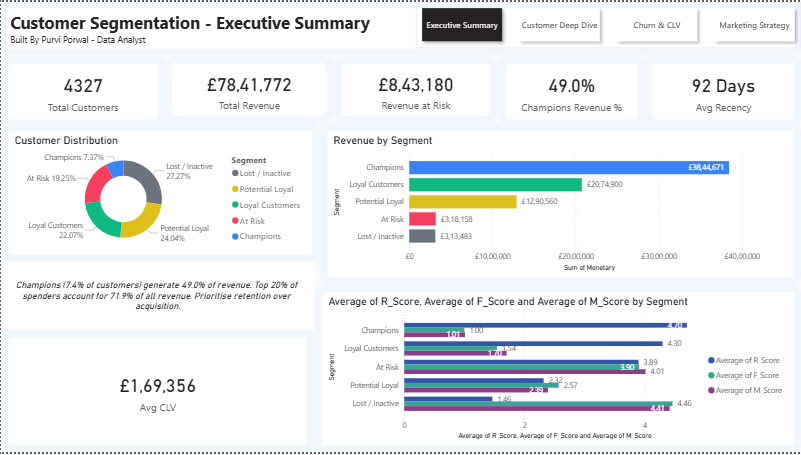

The page's visual inventory and layout, read from the dashboard file:
{"tool":"powerbi","page":{"name":"Executive Summary","canvas":[1280,720],"ordinal":0},"visuals":[{"type":"card","fields":{"Values":["Customer_RFM.Total Revenue"]},"box":[262.1,85.1,270.3,108.4],"z":0},{"type":"card","fields":{"Values":["Customer_RFM.Total Customers"]},"box":[0,85.1,262.1,113.9],"z":1000},{"type":"card","fields":{"Values":["Customer_RFM.Champions Revenue %"]},"box":[795.9,85.1,233.3,113.9],"z":2000},{"type":"donutChart","title":"Customer Distribution","fields":{"Category":["Customer_RFM.Segment"],"Y":["CountNonNull(Customer_RFM.Customer ID)"]},"box":[0,193.2,509.9,222.6],"z":3000},{"type":"clusteredBarChart","title":"Revenue by Segment","fields":{"Category":["Customer_RFM.Segment"],"Y":["Sum(Customer_RFM.Monetary)"]},"box":[509.9,193.2,770.4,258],"z":4000},{"type":"card","fields":{"Values":["Customer_RFM.Revenue at Risk"]},"box":[532.4,85.1,263.5,108.4],"z":5000},{"type":"card","fields":{"Values":["Customer_RFM.Avg Recency"]},"box":[1029.2,85.1,251.1,113.9],"z":6000},{"type":"clusteredBarChart","fields":{"Category":["Customer_RFM.Segment"],"Y":["Avg(Customer_RFM.R_Score)","Avg(Customer_RFM.F_Score)","Avg(Customer_RFM.M_Score)"]},"box":[501.4,451.2,778.9,270.2],"z":7000},{"type":"textbox","box":[0,0,1280.3,83.7],"z":8000},{"type":"card","fields":{"Values":["Customer_RFM.Avg CLV"]},"box":[0,523.4,501.4,196.9],"z":9000},{"type":"pageNavigator","box":[663.8,0,616.2,73.8],"z":10000},{"type":"card","fields":{"Values":["Churn_Risk.Insight_Page1"]},"box":[0,415.8,501.4,107.6],"z":11000}]}

Visuals, with their boxes in screenshot pixels (x1, y1, x2, y2), scaled from the page's 1280x720 canvas onto the 801x455 screenshot:
card - Customer_RFM.Total Revenue: bbox=(164, 54, 333, 122)
card - Customer_RFM.Total Customers: bbox=(0, 54, 164, 126)
card - Customer_RFM.Champions Revenue %: bbox=(498, 54, 644, 126)
"Customer Distribution" donutChart: bbox=(0, 122, 319, 263)
"Revenue by Segment" clusteredBarChart: bbox=(319, 122, 800, 285)
card - Customer_RFM.Revenue at Risk: bbox=(333, 54, 498, 122)
card - Customer_RFM.Avg Recency: bbox=(644, 54, 800, 126)
clusteredBarChart - Customer_RFM.Segment x Avg(Customer_RFM.R_Score): bbox=(314, 285, 800, 454)
textbox: bbox=(0, 0, 800, 53)
card - Customer_RFM.Avg CLV: bbox=(0, 331, 314, 454)
pageNavigator: bbox=(415, 0, 800, 47)
card - Churn_Risk.Insight_Page1: bbox=(0, 263, 314, 331)
